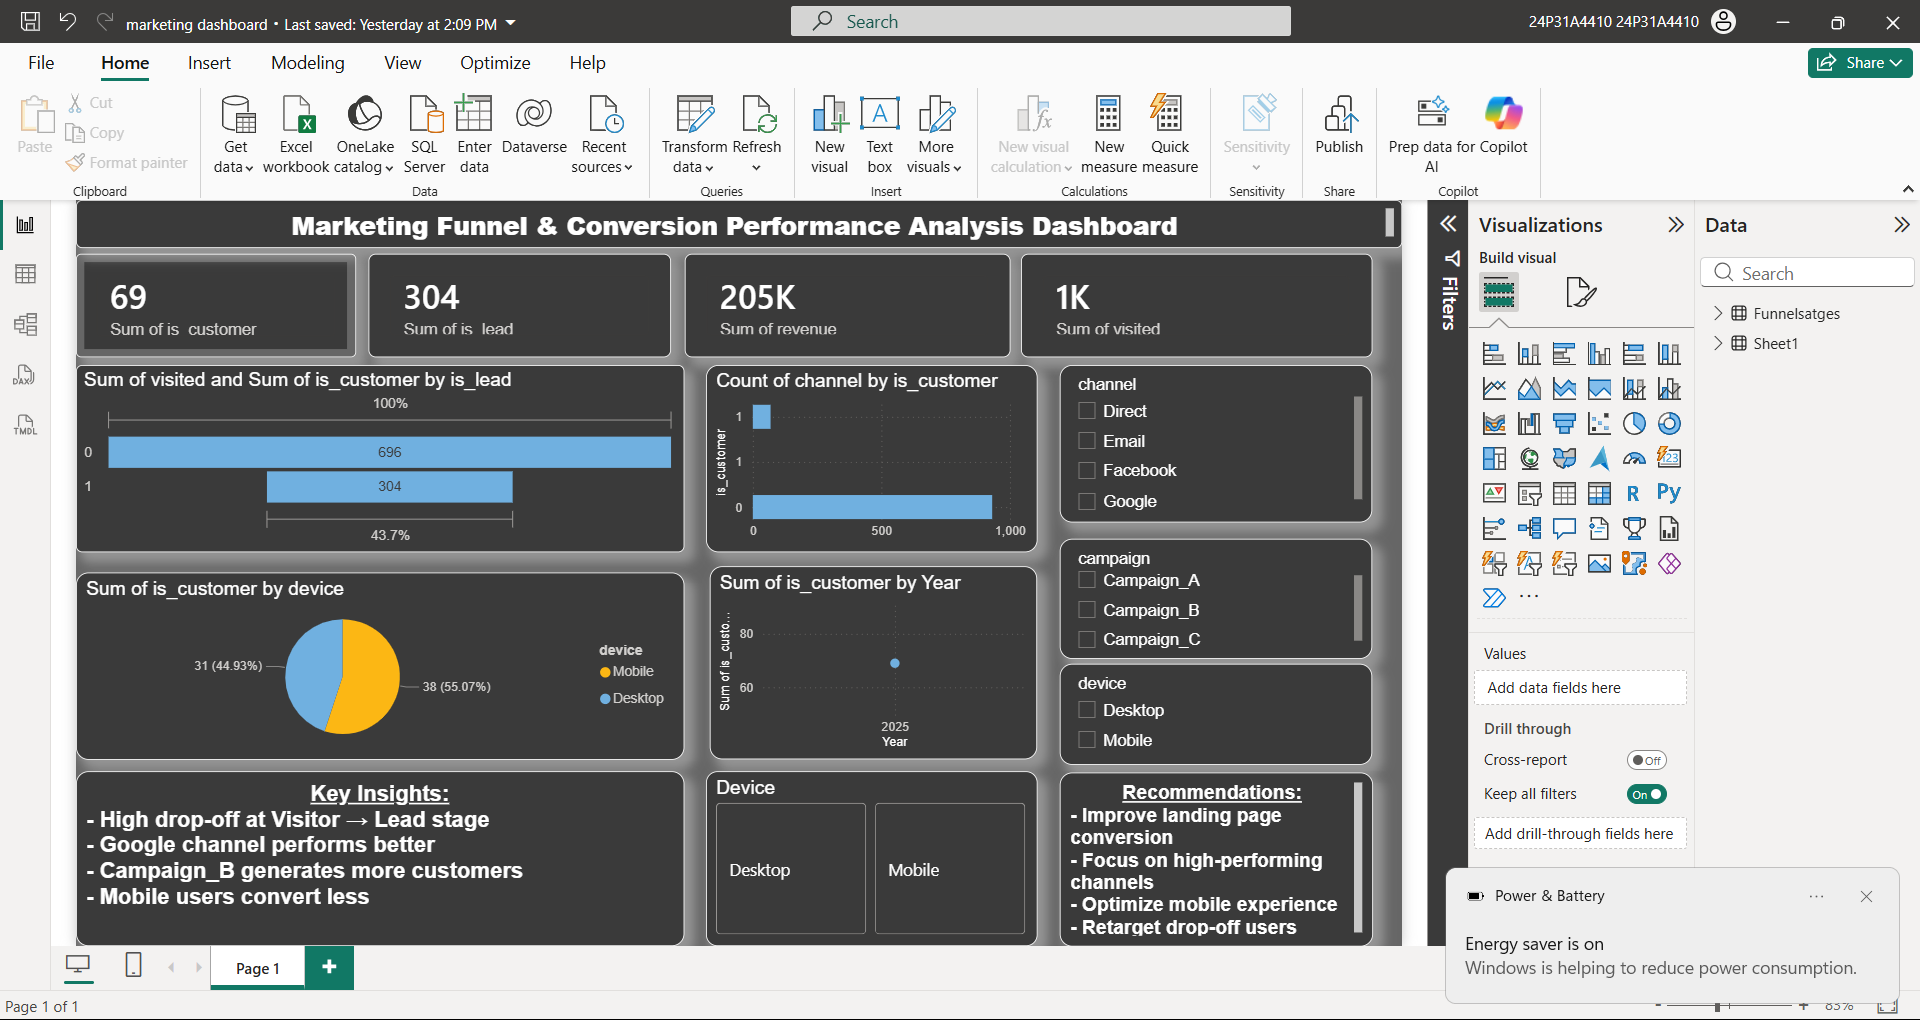

The page's visual inventory and layout, read from the dashboard file:
{"tool":"powerbi","page":{"name":"Page 1","canvas":[1280,720],"ordinal":0},"visuals":[{"type":"cardVisual","fields":{"Data":["Sum(Sheet1.is_customer)"]},"box":[0,51.9,270.2,100.1],"z":0},{"type":"textbox","box":[0,0,1280.3,46.7],"z":1},{"type":"cardVisual","fields":{"Data":["Sum(Sheet1.is_lead)"]},"box":[282.7,52.1,292.3,100.2],"z":2},{"type":"cardVisual","fields":{"Data":["Sum(Sheet1.revenue)"]},"box":[587.3,52.1,314.2,100.2],"z":3},{"type":"cardVisual","fields":{"Data":["Sum(Sheet1.visited)"]},"box":[912.5,52.1,338.9,100.2],"z":4},{"type":"funnel","fields":{"Y":["Sum(Sheet1.visited)"],"Category":["Sheet1.is_lead"]},"box":[0,159.2,587.3,181.1],"z":5},{"type":"barChart","fields":{"Y":["CountNonNull(Sheet1.channel)"],"Category":["Sheet1.is_customer"]},"box":[608,159.3,319.7,181],"z":6},{"type":"pieChart","fields":{"Category":["Sheet1.device"],"Y":["Sum(Sheet1.is_customer)"]},"box":[0,359.5,587.3,181.1],"z":7},{"type":"lineChart","fields":{"Category":["Sheet1.date.Variation.Date Hierarchy.Year","Sheet1.date.Variation.Date Hierarchy.Quarter","Sheet1.date.Variation.Date Hierarchy.Month","Sheet1.date.Variation.Date Hierarchy.Day"],"Y":["Sum(Sheet1.is_customer)"]},"box":[612,354,315.6,186.6],"z":8},{"type":"advancedSlicerVisual","fields":{"Values":["Sheet1.device"]},"box":[607.9,551.6,319.7,168.8],"z":10},{"type":"textbox","box":[0,551,587,169],"z":13},{"type":"slicer","fields":{"Values":["Sheet1.channel"]},"box":[949.5,159.3,301.6,152],"z":15},{"type":"slicer","fields":{"Values":["Sheet1.campaign"]},"box":[949.5,326.9,301.6,115.8],"z":16},{"type":"slicer","fields":{"Values":["Sheet1.device"]},"box":[949.5,447.6,301.6,97.7],"z":17},{"type":"textbox","box":[949,552,302,168],"z":18}]}

Visuals, with their boxes on the page's 1280x720 design canvas (x1, y1, x2, y2). These are canvas units, not pixel positions in the 1920x1020 screenshot, which may show the page scaled, cropped or inside an application window:
cardVisual - Sum(Sheet1.is_customer): left=0, top=52, right=270, bottom=152
textbox: left=0, top=0, right=1280, bottom=47
cardVisual - Sum(Sheet1.is_lead): left=283, top=52, right=575, bottom=152
cardVisual - Sum(Sheet1.revenue): left=587, top=52, right=902, bottom=152
cardVisual - Sum(Sheet1.visited): left=912, top=52, right=1251, bottom=152
funnel - Sum(Sheet1.visited) x Sheet1.is_lead: left=0, top=159, right=587, bottom=340
barChart - CountNonNull(Sheet1.channel) x Sheet1.is_customer: left=608, top=159, right=928, bottom=340
pieChart - Sheet1.device x Sum(Sheet1.is_customer): left=0, top=360, right=587, bottom=541
lineChart - Sheet1.date.Variation.Date Hierarchy.Year x Sheet1.date.Variation.Date Hierarchy.Quarter: left=612, top=354, right=928, bottom=541
advancedSlicerVisual - Sheet1.device: left=608, top=552, right=928, bottom=720
textbox: left=0, top=551, right=587, bottom=720
slicer - Sheet1.channel: left=950, top=159, right=1251, bottom=311
slicer - Sheet1.campaign: left=950, top=327, right=1251, bottom=443
slicer - Sheet1.device: left=950, top=448, right=1251, bottom=545
textbox: left=949, top=552, right=1251, bottom=720
